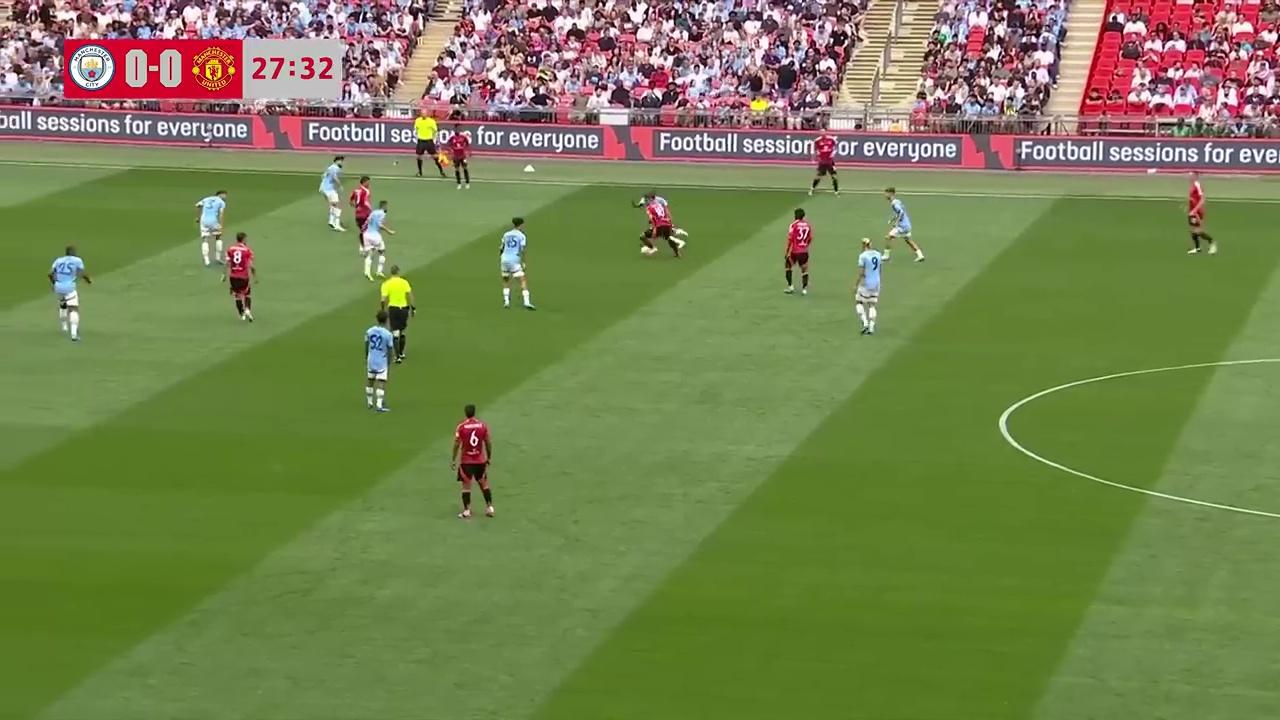ball: (640, 242, 656, 256)
player: (450, 403, 494, 520), (48, 244, 92, 342), (498, 217, 536, 311), (222, 231, 258, 323), (362, 310, 392, 412), (883, 189, 923, 263), (358, 201, 394, 280), (634, 201, 681, 256), (194, 188, 227, 266), (784, 208, 813, 295), (1185, 175, 1216, 254), (857, 238, 883, 328), (642, 187, 687, 238), (319, 156, 345, 232), (808, 137, 841, 196), (349, 177, 372, 242), (451, 140, 471, 189)
referee: (379, 264, 417, 361), (413, 108, 447, 180)
